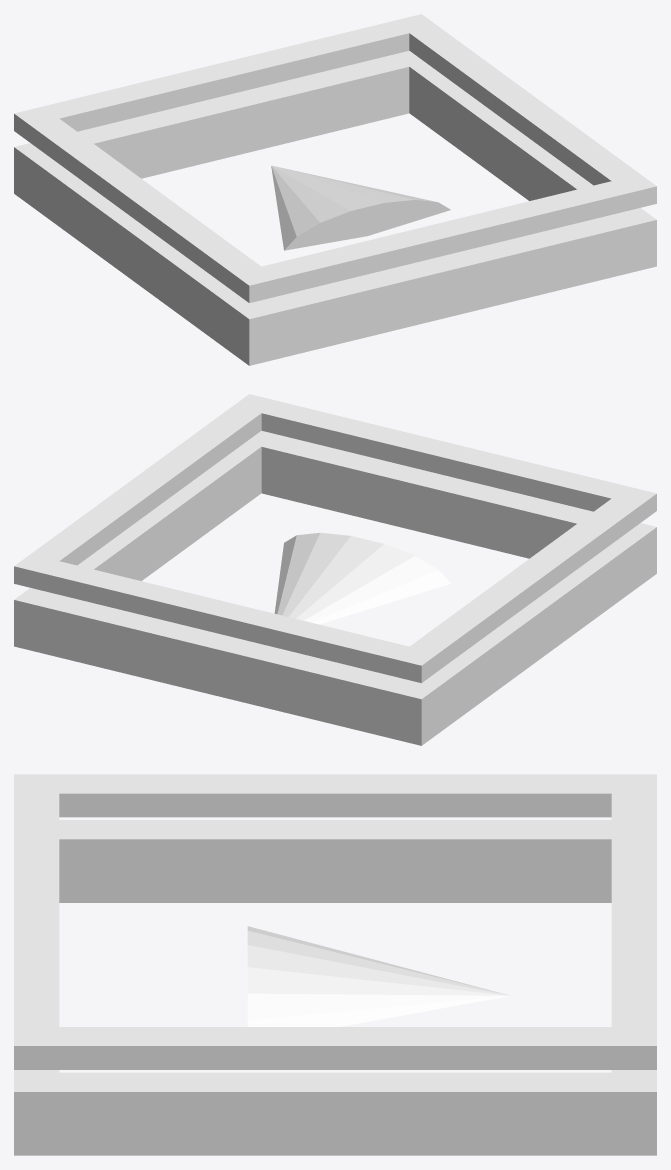
Rendered from furnitureSelector1x1.gltf.
The picture shows the model from 3 angles, top to bottom: view 1: azimuth 30°, elevation 25°; view 2: azimuth 150°, elevation 25°; view 3: azimuth 270°, elevation 25°; orthographic projection. The views are drawn at different scales.
Parts seen in each view (by area): view 1: tube; view 2: tube; view 3: tube.
Part boxes in pixels (box(x1,y1,x2,y2)): tube: box(14, 14, 656, 365); tube: box(14, 394, 656, 745); tube: box(14, 774, 656, 1155).
Size of the model in its own units: 0.9142 by 0.1719 by 0.9142.
Materials: 1 (1 with a texture image).
